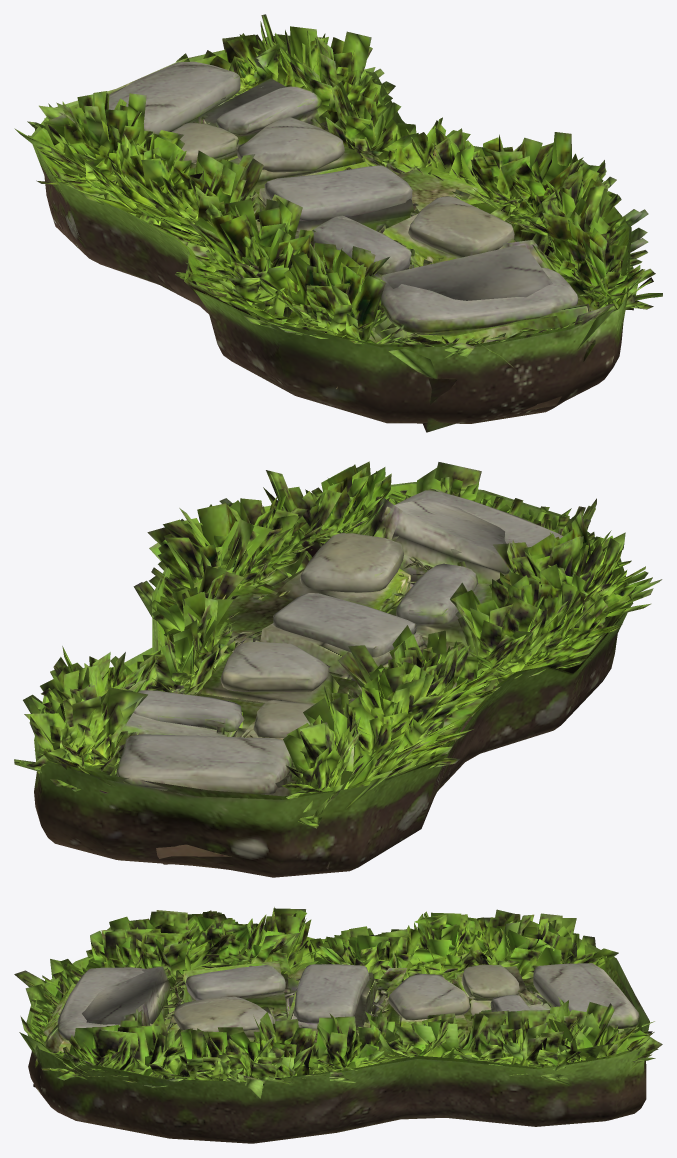
File: Meshy_AI_Verdant_Stone_Path_0721143522_texture.fbx
3 views of the same model, one above another, from view 1: azimuth 30°, elevation 25°; view 2: azimuth 150°, elevation 25°; view 3: azimuth 270°, elevation 25° (orthographic). The views are drawn at different scales.
Parts seen in each view (by area): view 1: mesh_node; view 2: mesh_node; view 3: mesh_node.
Part boxes in pixels (<box>): mesh_node: <box>14,14,662,432</box>; mesh_node: <box>14,461,662,877</box>; mesh_node: <box>14,907,662,1143</box>.
Bounding box in the file's own units: 63.28 × 21.58 × 98.63.
1 material, 1 textured.
